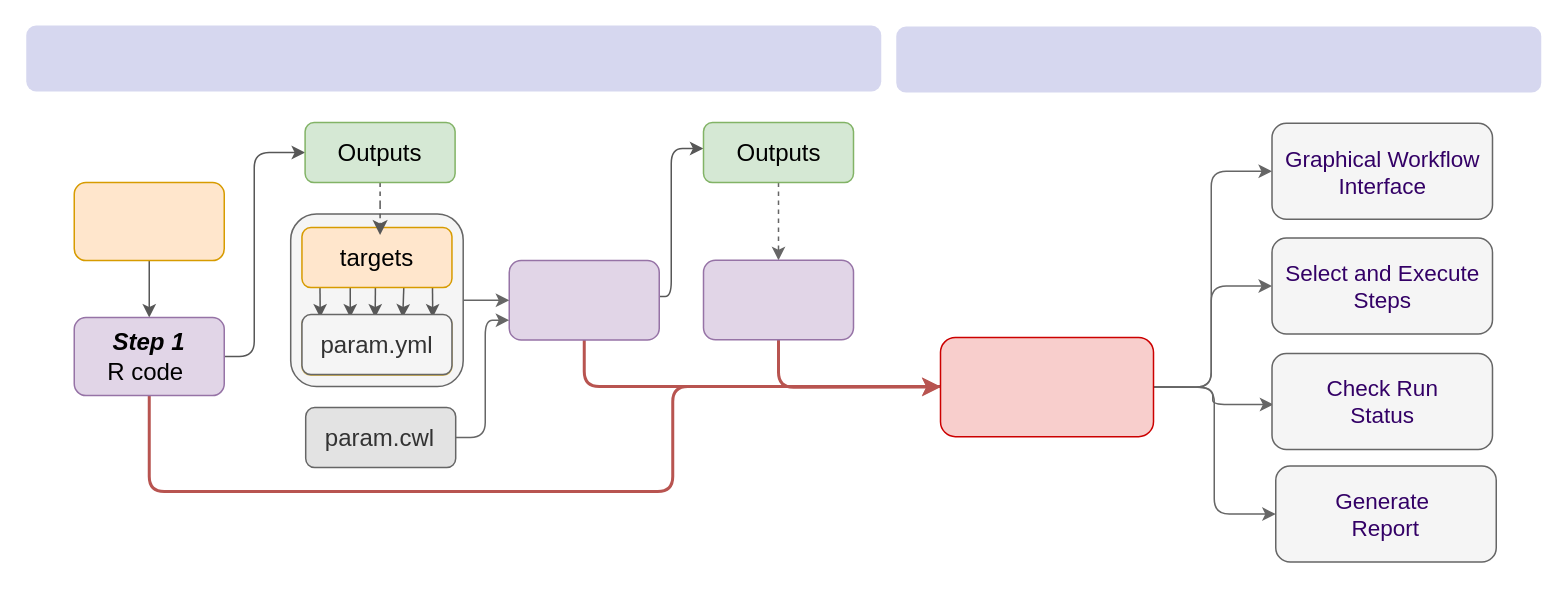
This 1566x593 diagram has some shape labels left out. The shapes that lost their labels are listed below. From the top down, each one's centre as x and y in pixels, then its label:
point (453, 58): (A) SYSargs2
point (1218, 59): (B) SYSargsList
point (148, 221): targets User input
point (583, 299): Step 2 SYSargs2
point (778, 299): Step n
point (1046, 386): SYSargsList
